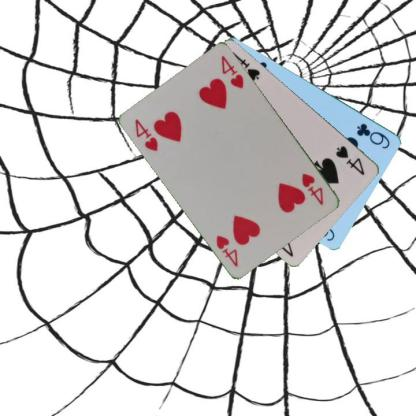4h: (132, 116, 160, 153), (300, 170, 326, 207)
4s: (334, 143, 366, 177)
6c: (354, 120, 392, 150)
